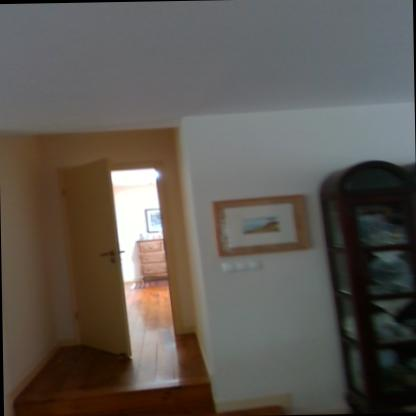semi: (48, 150, 195, 383)
